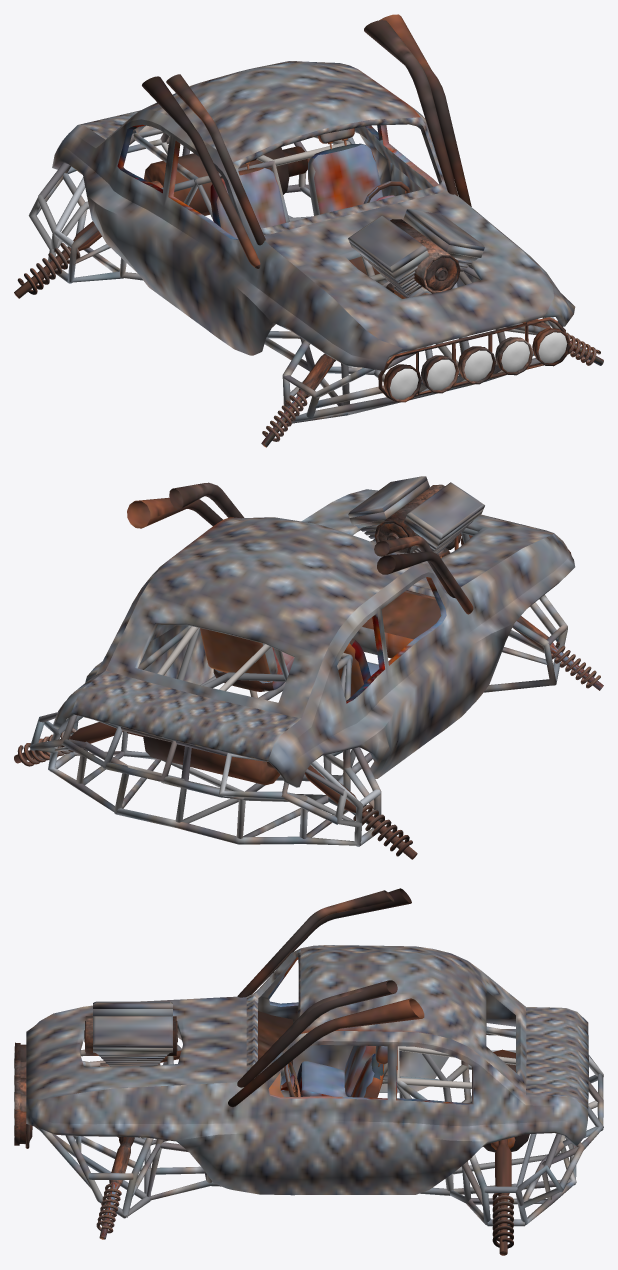
Rendered from Coche_Medio_01_carroceria.fbx.
The picture shows the model from 3 angles, top to bottom: view 1: azimuth 30°, elevation 25°; view 2: azimuth 150°, elevation 25°; view 3: azimuth 270°, elevation 25°; orthographic projection. The views are drawn at different scales.
Visible parts, largest first — view 1: Tubos de escape.001; view 2: Tubos de escape.001; view 3: Tubos de escape.001.
Boxes of the visible parts, box(x1,y1,x2,y2) form: Tubos de escape.001: box(14, 14, 603, 447); Tubos de escape.001: box(14, 476, 603, 859); Tubos de escape.001: box(14, 888, 603, 1255).
Bounding box in the file's own units: 736 × 455 × 1015.
